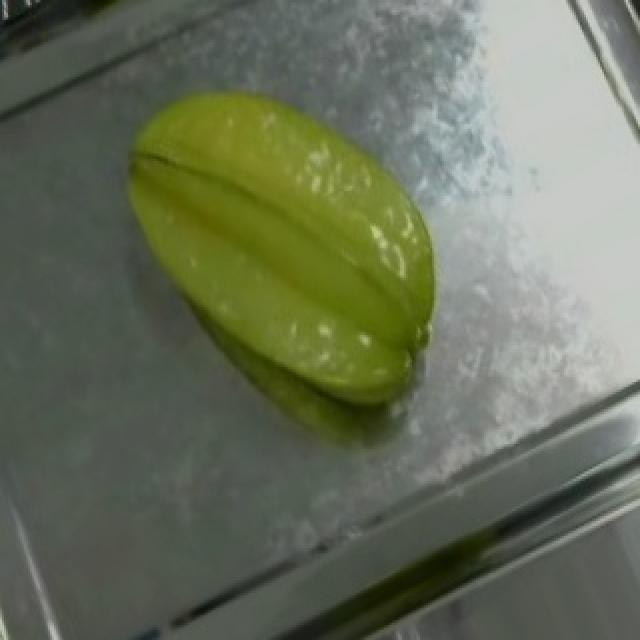fruit: (70, 37, 508, 469)
